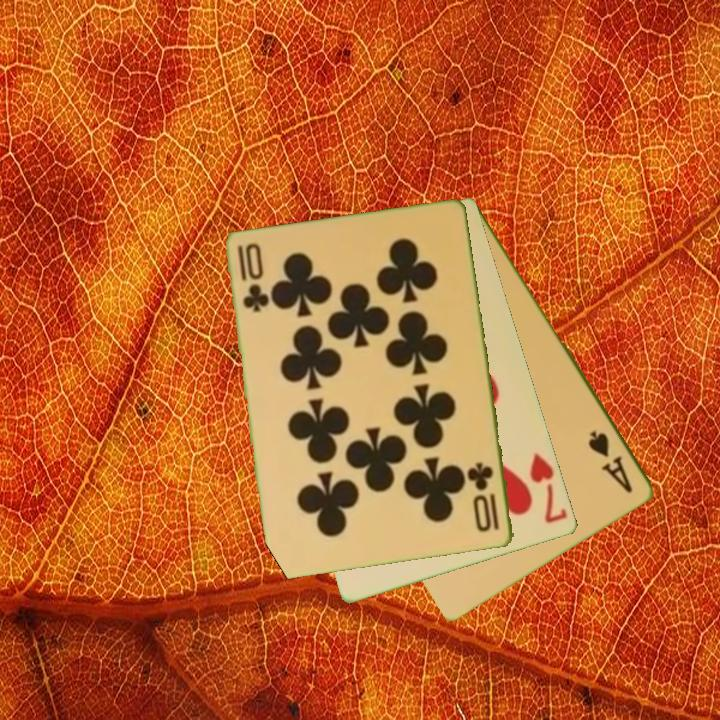10c: (466, 459, 503, 536), (235, 240, 269, 316)
7h: (526, 449, 571, 527)
As: (585, 427, 637, 496)
